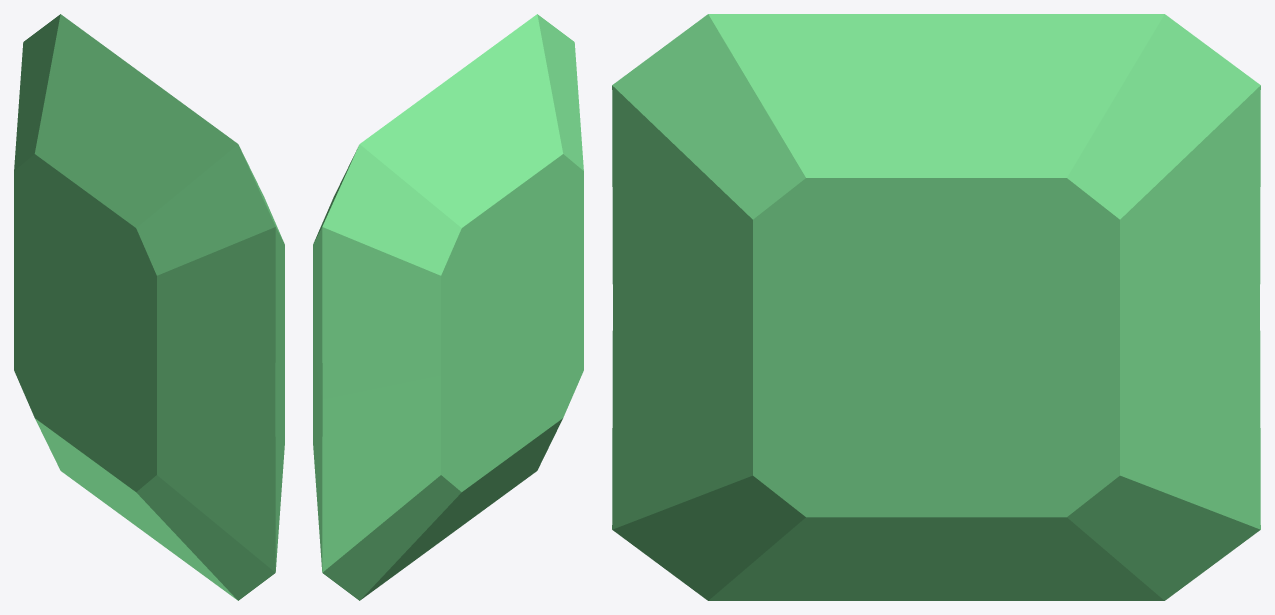
Rendered from Emerald.fbx.
3 views of the same model, side by side, from view 1: azimuth 30°, elevation 25°; view 2: azimuth 150°, elevation 25°; view 3: azimuth 270°, elevation 25° (orthographic). The views are drawn at different scales.
Parts seen in each view (by area): view 1: Emerald; view 2: Emerald; view 3: Emerald.
Boxes of the visible parts, box(x1,y1,x2,y2) form: Emerald: box(14, 14, 284, 600); Emerald: box(313, 14, 583, 600); Emerald: box(612, 14, 1260, 600).
Bounding box in the file's own units: 24.69 × 84.18 × 84.32.
